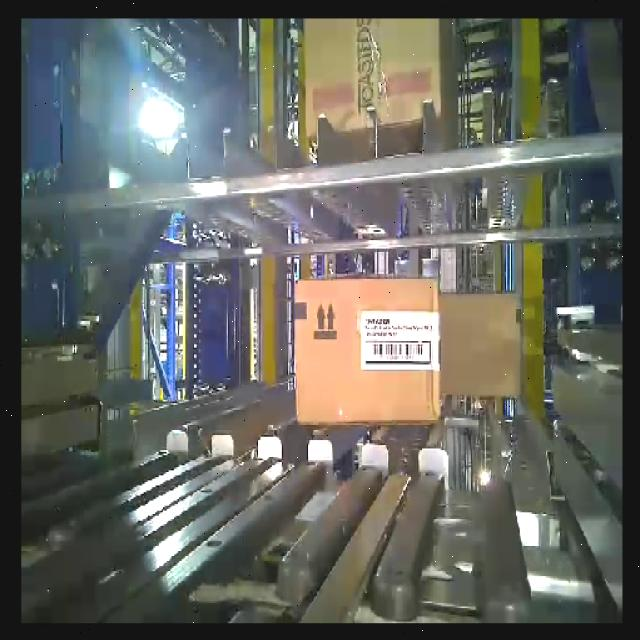box: (294, 278, 442, 423)
